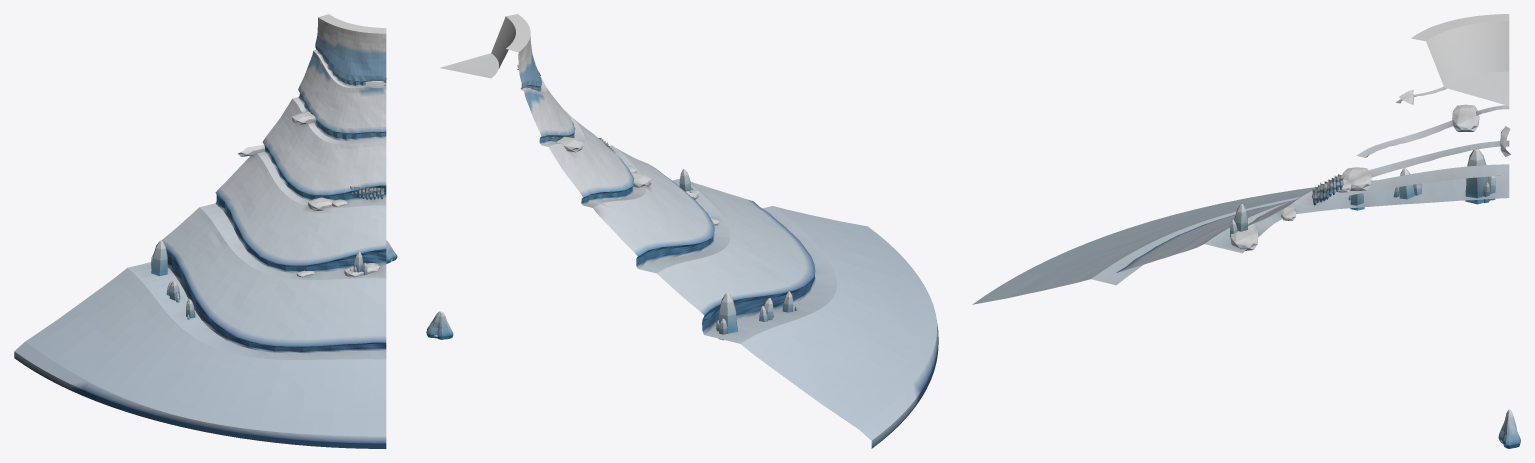
File: glacier-s6-DsG5vfTH.glb
The picture shows the model from 3 angles, left to right: view 1: azimuth 30°, elevation 25°; view 2: azimuth 150°, elevation 25°; view 3: azimuth 270°, elevation 25°; orthographic projection. The views are drawn at different scales.
Visible parts, largest first — view 1: sc_landmark_3; view 2: sc_landmark_3, sc_berg_0; view 3: sc_landmark_3, sc_berg_0.
Boxes of the visible parts, <box> form: sc_landmark_3: <box>14,14,387,448</box>; sc_landmark_3: <box>440,14,938,448</box>; sc_berg_0: <box>426,311,453,339</box>; sc_landmark_3: <box>972,14,1510,304</box>; sc_berg_0: <box>1498,409,1520,448</box>.
Size of the model in its own units: 428 by 286 by 368.
